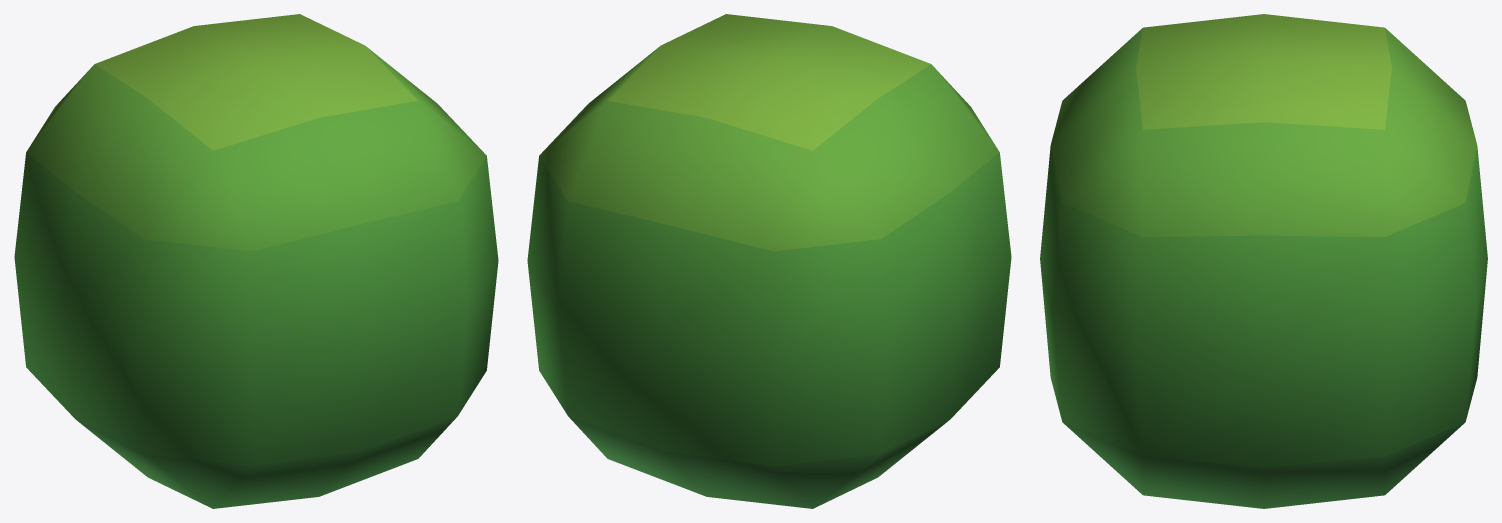
The model's file is ball_medium_small_green.fbx.
3 views of the same model, side by side, from view 1: azimuth 30°, elevation 25°; view 2: azimuth 150°, elevation 25°; view 3: azimuth 270°, elevation 25° (orthographic). The views are drawn at different scales.
Parts seen in each view (by area): view 1: ball_medium_small_green; view 2: ball_medium_small_green; view 3: ball_medium_small_green.
Boxes of the visible parts, bbox=[...] form: ball_medium_small_green: bbox=[14, 14, 498, 508]; ball_medium_small_green: bbox=[527, 14, 1011, 508]; ball_medium_small_green: bbox=[1040, 14, 1487, 508].
Size of the model in its own units: 55.97 by 56.34 by 55.97.
1 material, 1 textured.
